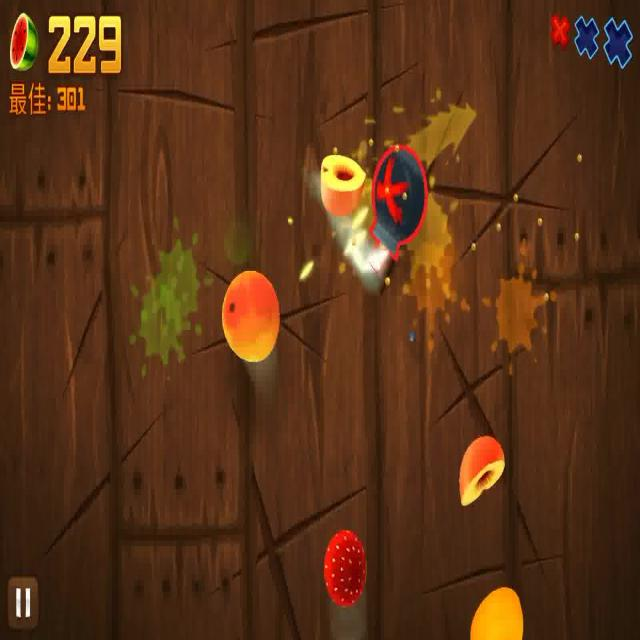bomb: (370, 136, 427, 272)
fruit: (221, 270, 279, 359), (320, 528, 368, 606), (458, 436, 505, 508), (318, 152, 366, 216), (471, 581, 522, 640)
